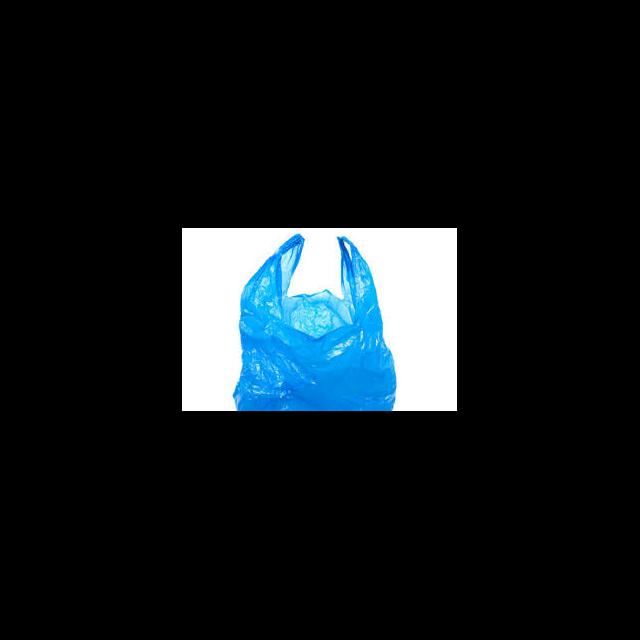plastic: (232, 234, 396, 411)
